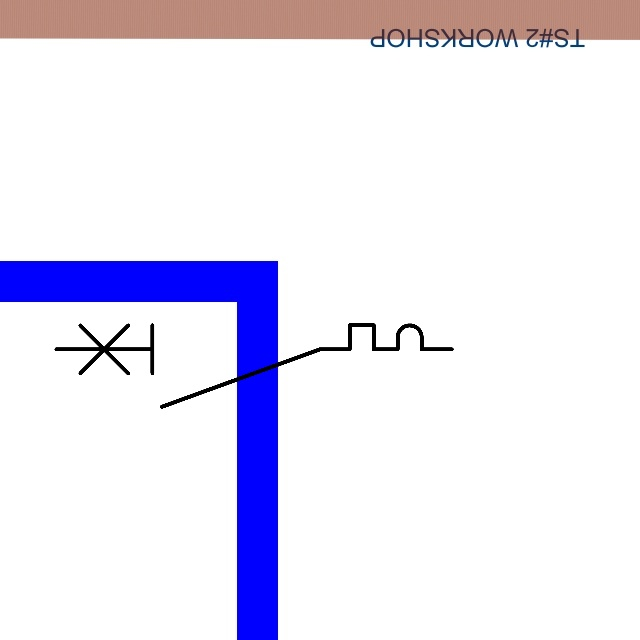interruptor_termomagnetico: (46, 315, 462, 417)
